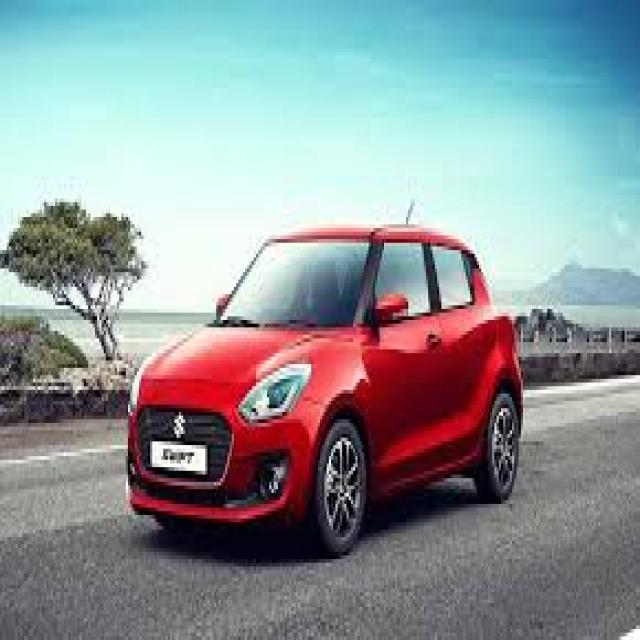cars: (120, 202, 540, 581)
